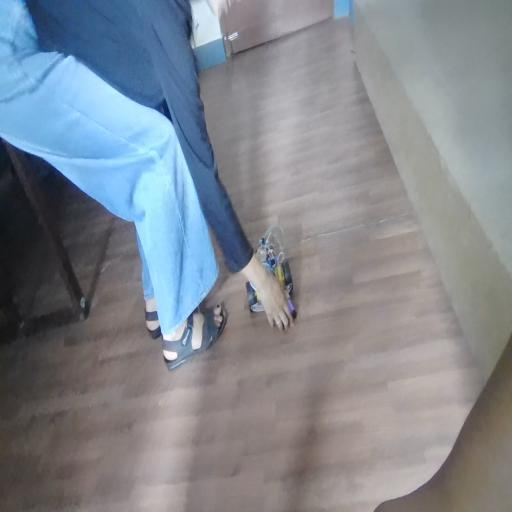car: (260, 236, 292, 297)
